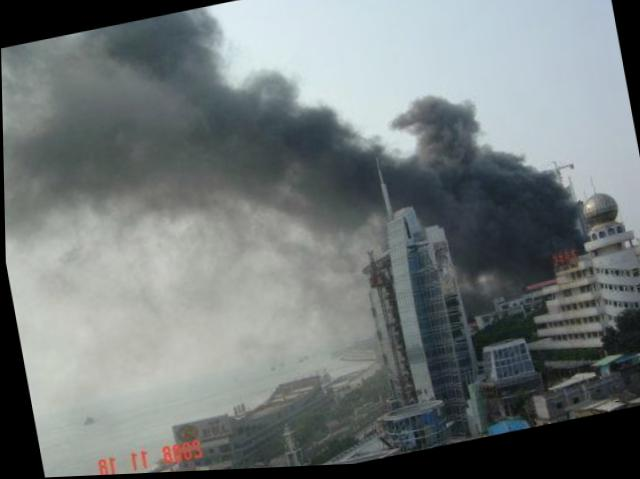smoke: (2, 101, 368, 242), (1, 57, 306, 165), (431, 139, 598, 295), (0, 8, 225, 115), (384, 83, 496, 173), (310, 167, 432, 240)
